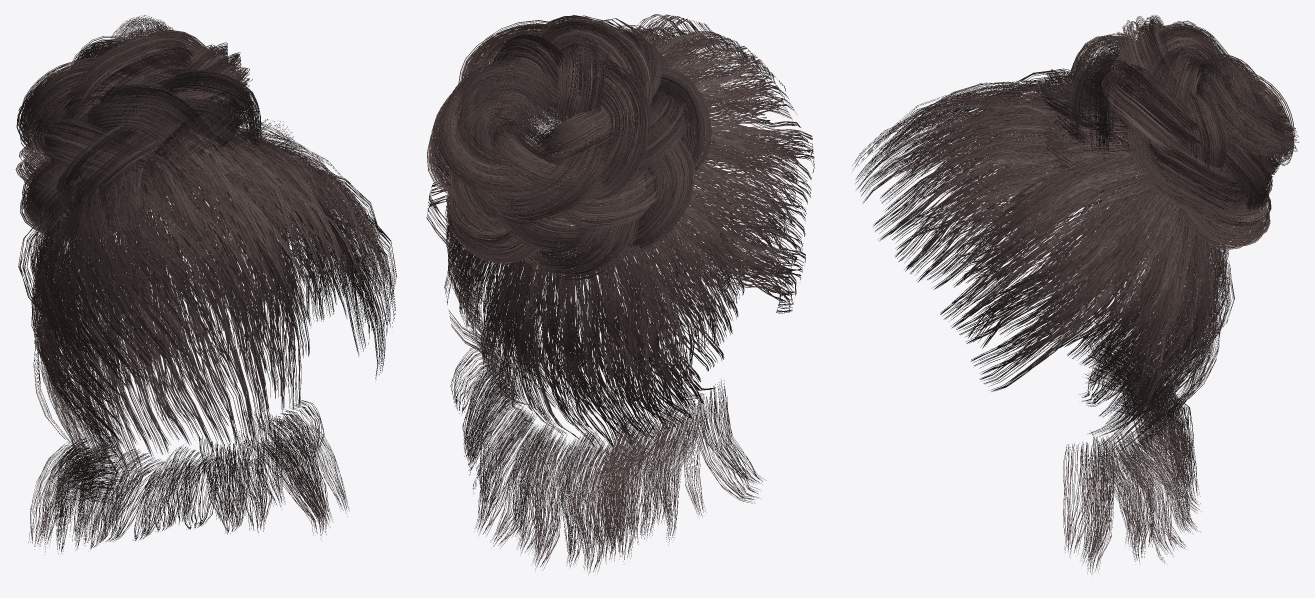
Rendered from Hair01.fbx.
The picture shows the model from 3 angles, left to right: view 1: azimuth 30°, elevation 25°; view 2: azimuth 150°, elevation 25°; view 3: azimuth 270°, elevation 25°; orthographic projection. The views are drawn at different scales.
Visible parts, largest first — view 1: hair1; view 2: hair1; view 3: hair1.
Part boxes in pixels (x1=…): hair1: x1=15, y1=15, x2=396, y2=553; hair1: x1=426, y1=14, x2=814, y2=574; hair1: x1=852, y1=15, x2=1299, y2=574.
Size of the model in its own units: 19.33 by 29.63 by 24.23.
1 material, 1 textured.
